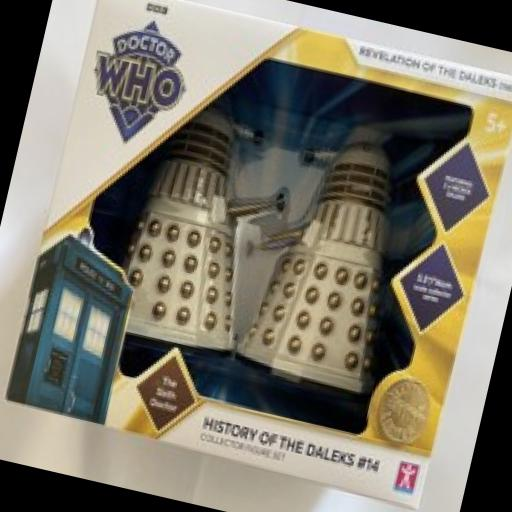dalek: (224, 118, 429, 428), (93, 90, 305, 386)
